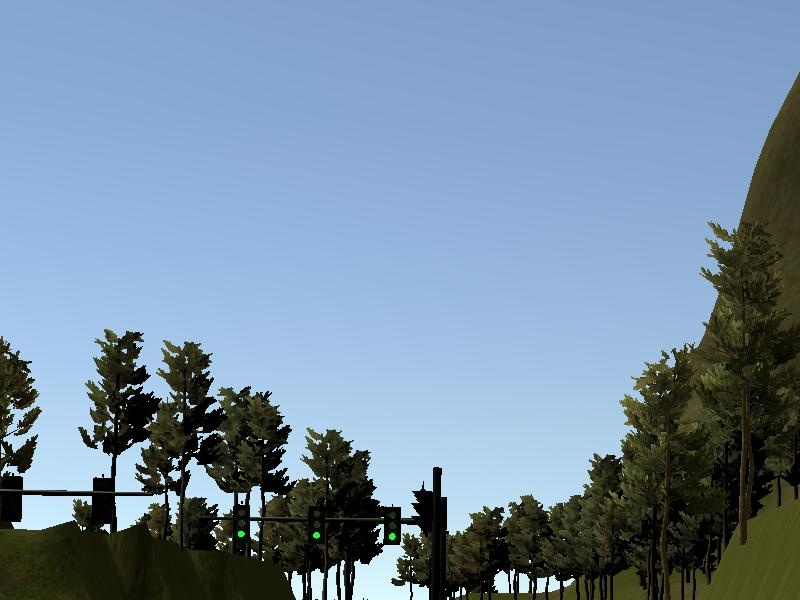GREEN: (232, 503, 251, 543), (382, 508, 402, 544), (307, 505, 325, 543)
